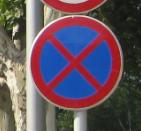No Parking: (29, 19, 126, 110)
